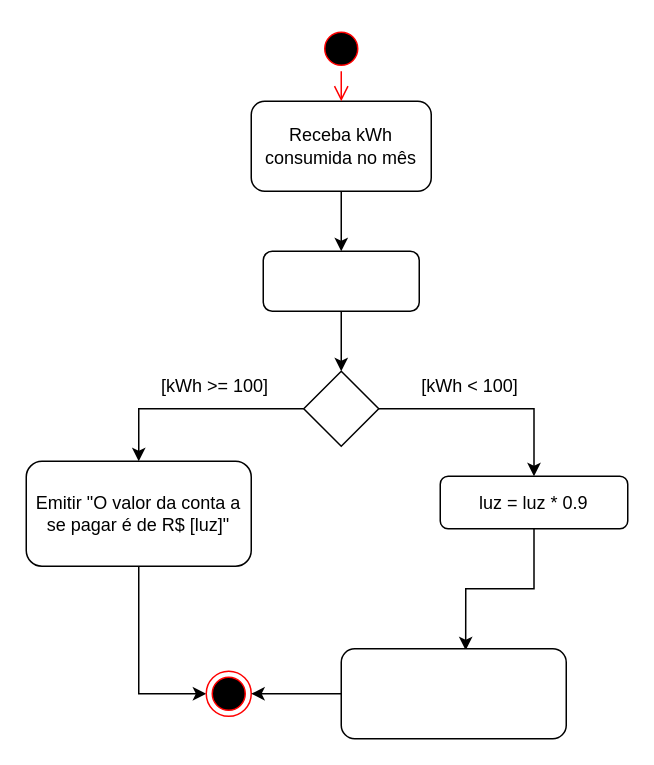
Image size: 654x765. Some labels were removed from this diagram. Here are the shapes that lost their labels. From the top down, the centre of each, then its label:
(340,280): luz = kWh * 0.85
(453,693): Emitir "O valor da conta a se pagar aplicado os 10% é de R$ [luz]"
